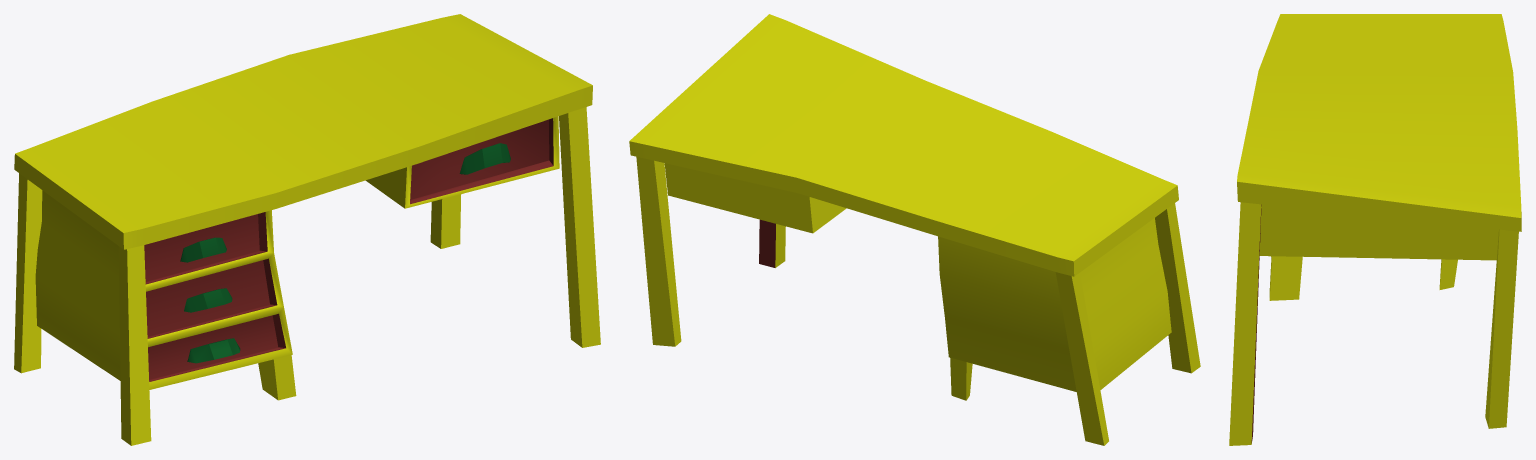
The model's file is SM_ClassicDesk.fbx.
The picture shows the model from 3 angles, left to right: view 1: azimuth 30°, elevation 25°; view 2: azimuth 150°, elevation 25°; view 3: azimuth 270°, elevation 25°; orthographic projection. The views are drawn at different scales.
Visible parts, largest first — view 1: Cube.004; view 2: Cube.004; view 3: Cube.004.
Part boxes in pixels (x1,y1,x2,y2): Cube.004: (14, 14, 600, 445); Cube.004: (629, 14, 1200, 445); Cube.004: (1229, 14, 1521, 445).
Size of the model in its own units: 168 by 87.43 by 88.42.
